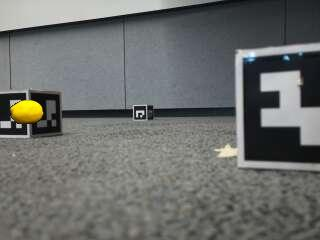lemon: (10, 100, 43, 123)
